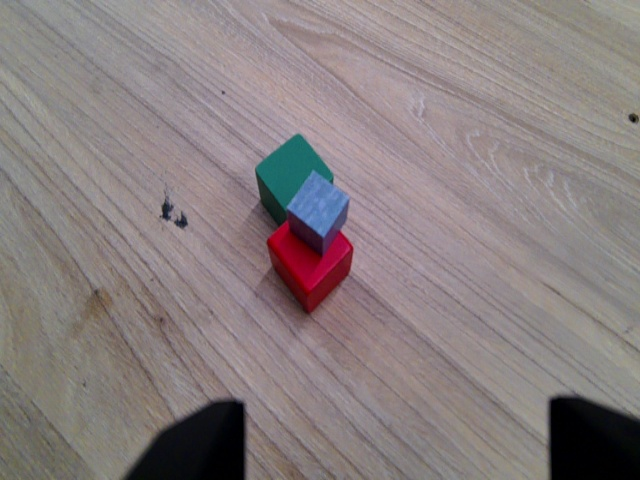stone: (283, 166, 352, 261)
